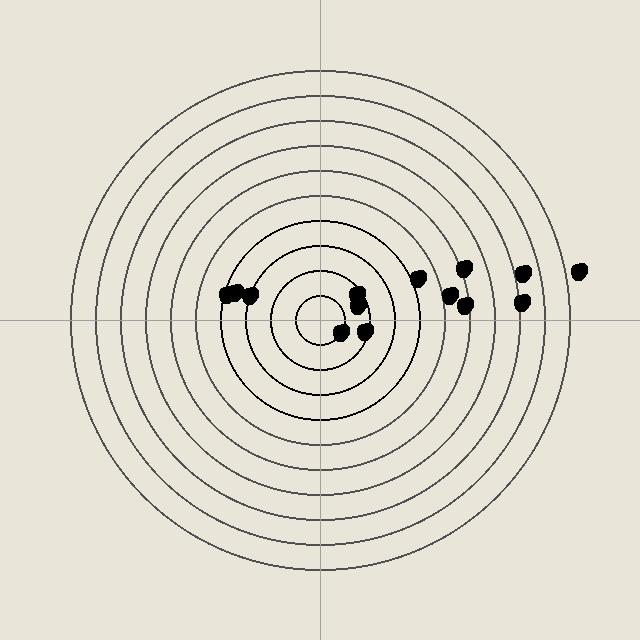horizontal_scatter: (511, 292, 531, 312), (407, 268, 427, 288), (439, 285, 459, 305), (224, 282, 244, 302), (330, 322, 350, 342), (239, 285, 259, 305), (454, 295, 474, 315), (346, 284, 366, 304), (568, 261, 588, 281), (512, 263, 532, 283), (216, 284, 236, 304), (453, 258, 473, 278), (354, 321, 374, 341), (347, 295, 367, 315)
